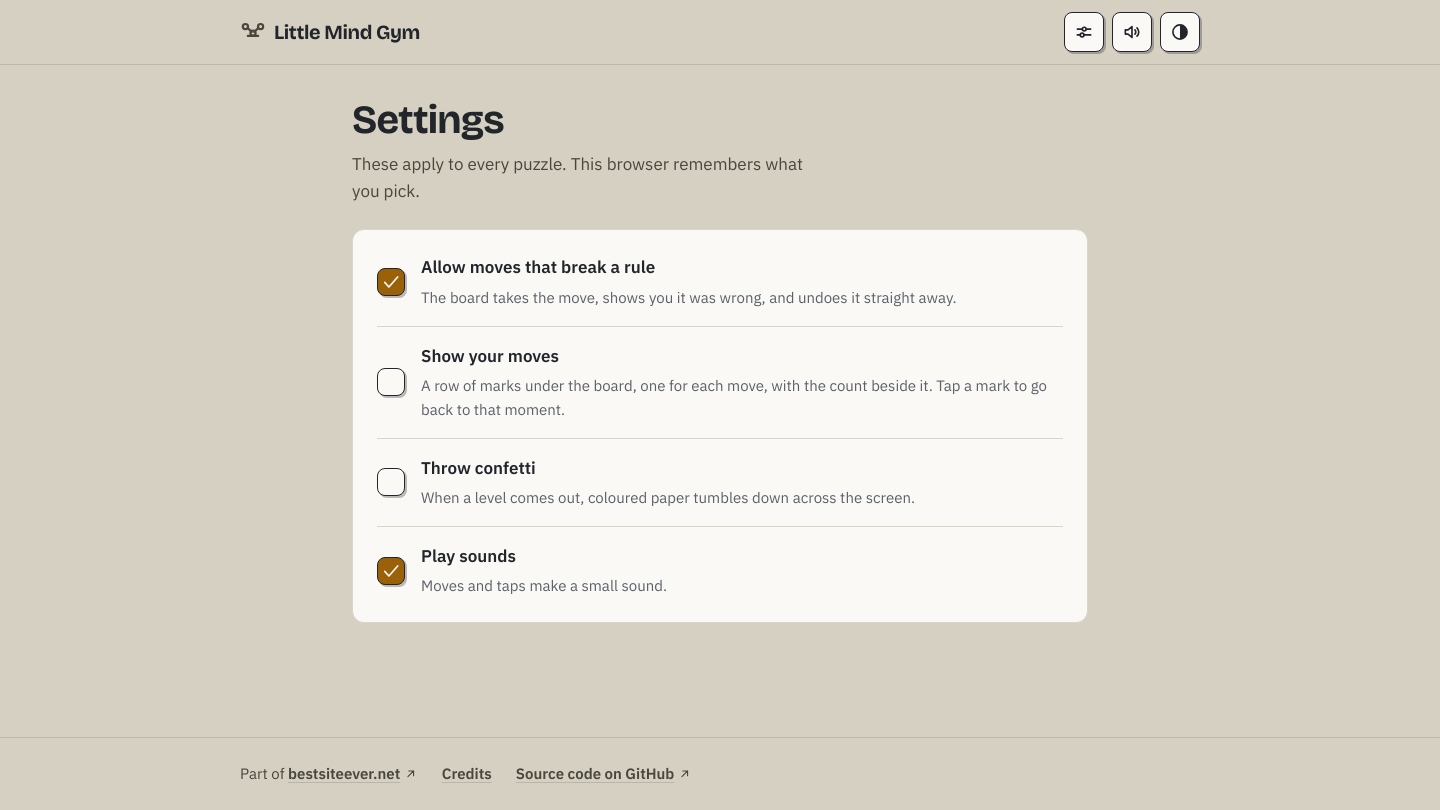
Scenario: the sound switch › is one switch, wherever it is pressed
expect the checkbox labelled "Play sounds" is checked: met, box x1=377 y1=526 x2=1063 y2=614
Click the button named "turn the sounds off": coordinates (1132, 32) x1=1112 y1=12 x2=1152 y2=52
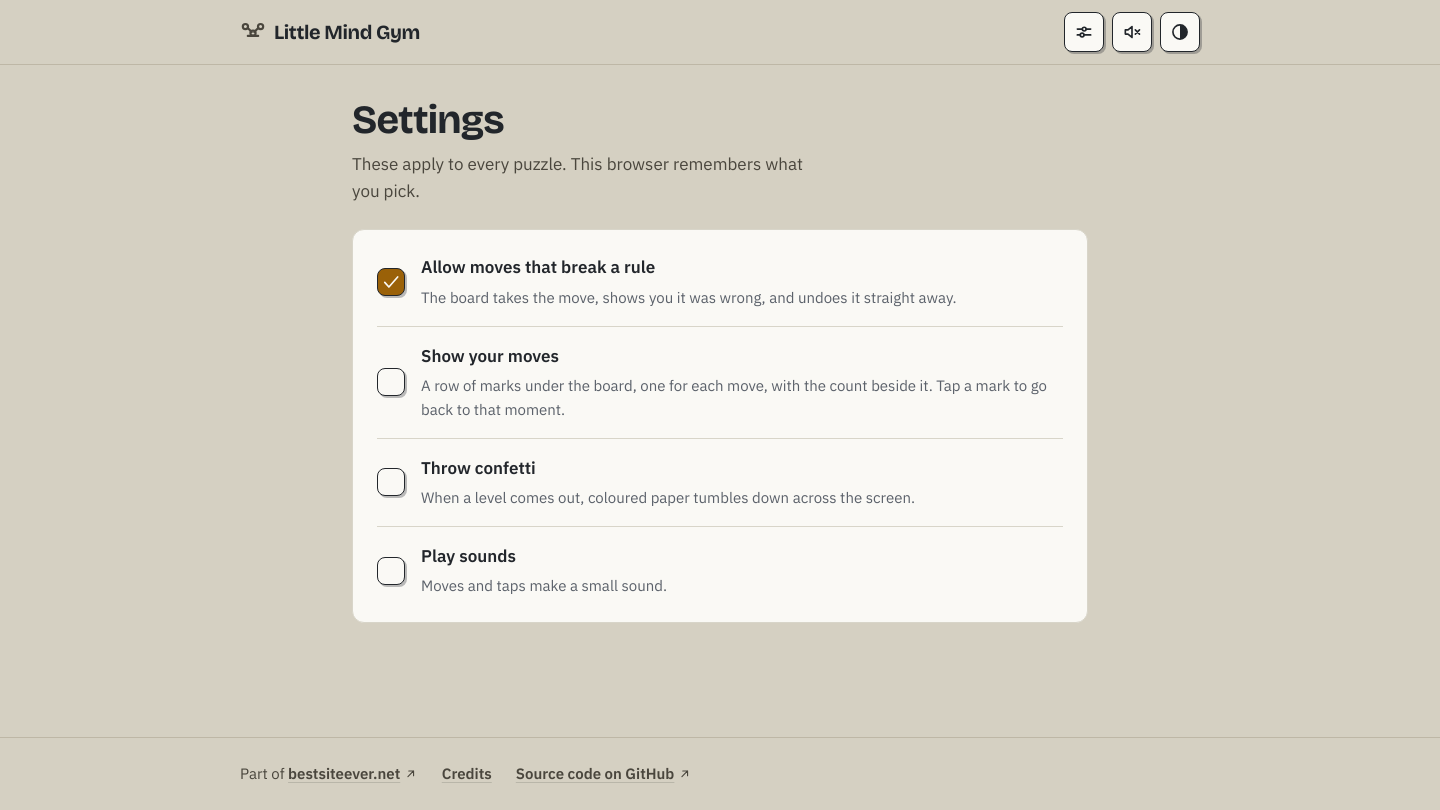
expect the checkbox labelled "Play sounds" is not checked: met
Click the checkbox labelled "Play sounds": coordinates (468, 556) x1=377 y1=526 x2=1063 y2=614
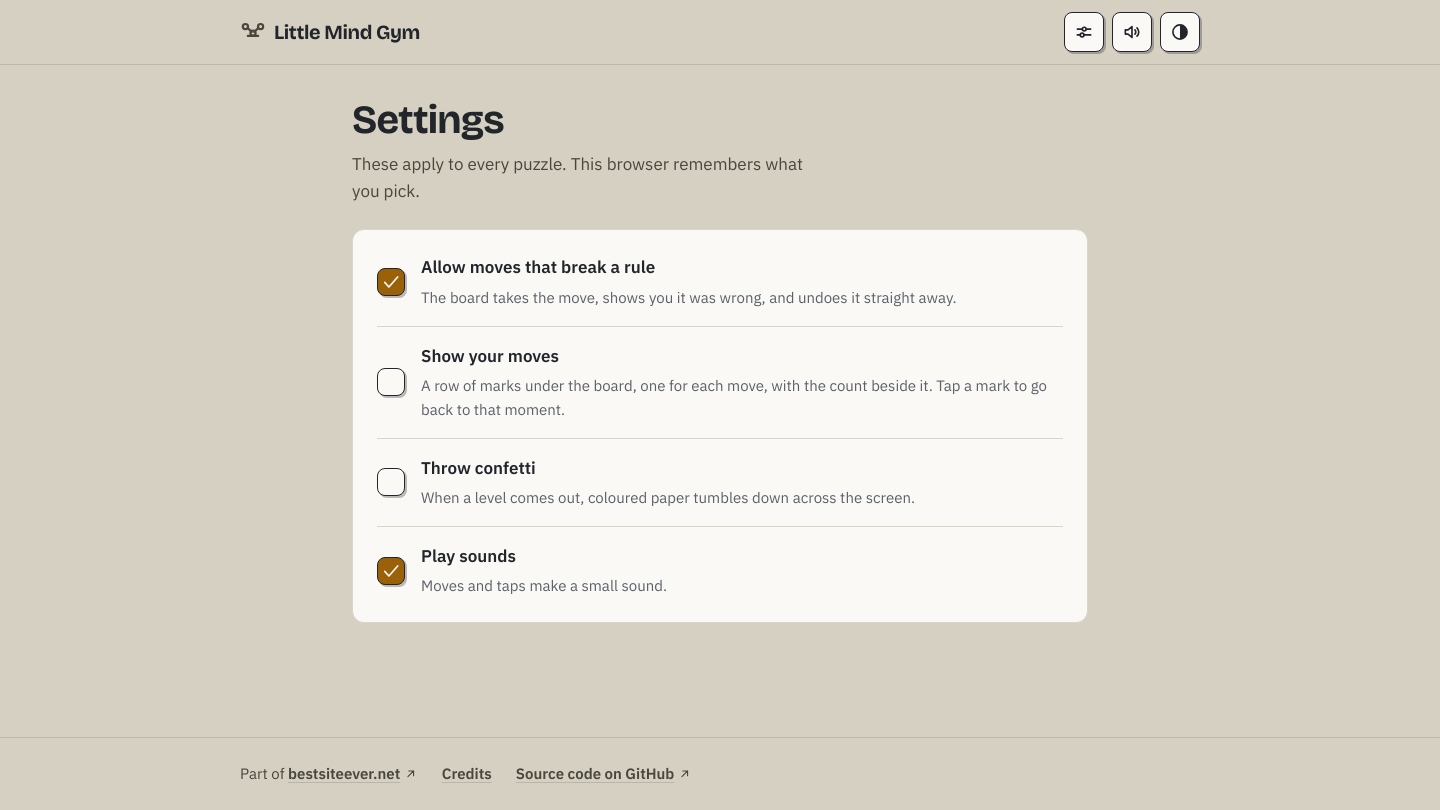
expect the button named "turn the sounds off" is shown: met, box x1=1112 y1=12 x2=1152 y2=52
